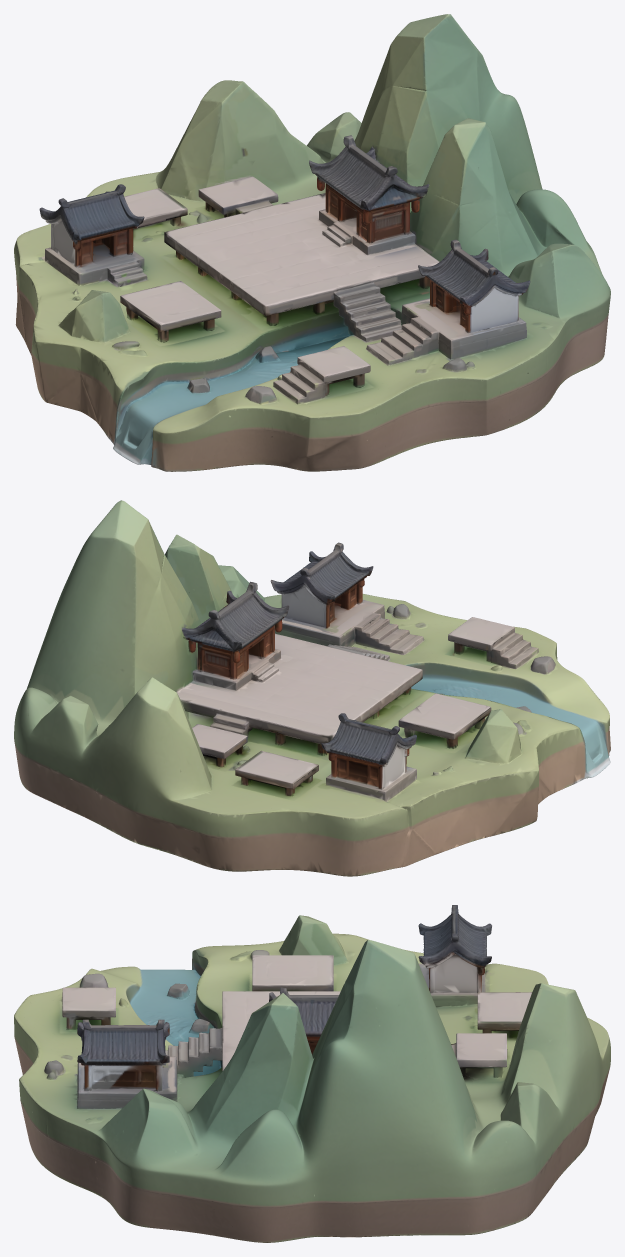
File: island_hunyuan3d.glb
3 renders of one model, top to bottom at view 1: azimuth 30°, elevation 25°; view 2: azimuth 150°, elevation 25°; view 3: azimuth 270°, elevation 25°, orthographic. The views are drawn at different scales.
Visible parts, largest first — view 1: node_0; view 2: node_0; view 3: node_0.
Part boxes in pixels (bbox=[...]): node_0: bbox=[14, 14, 610, 471]; node_0: bbox=[14, 500, 610, 876]; node_0: bbox=[14, 905, 610, 1242].
Bounding box in the file's own units: 0.9858 × 0.4837 × 0.9843.
1 material, 1 textured.
